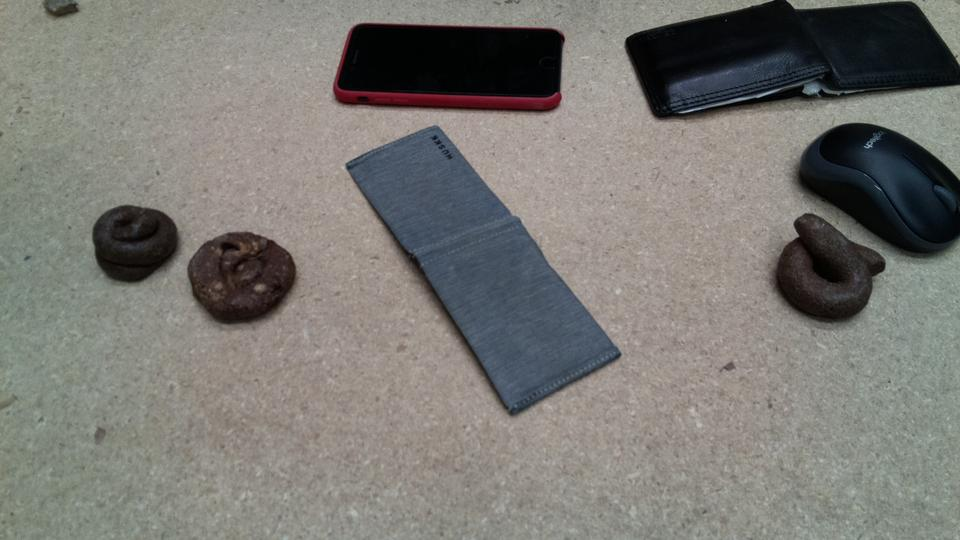poop: (771, 210, 888, 323), (186, 229, 299, 326), (90, 202, 181, 284)
